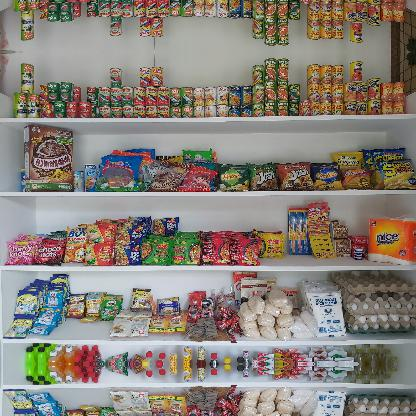Koko-Krunch: (23, 124, 73, 192)
